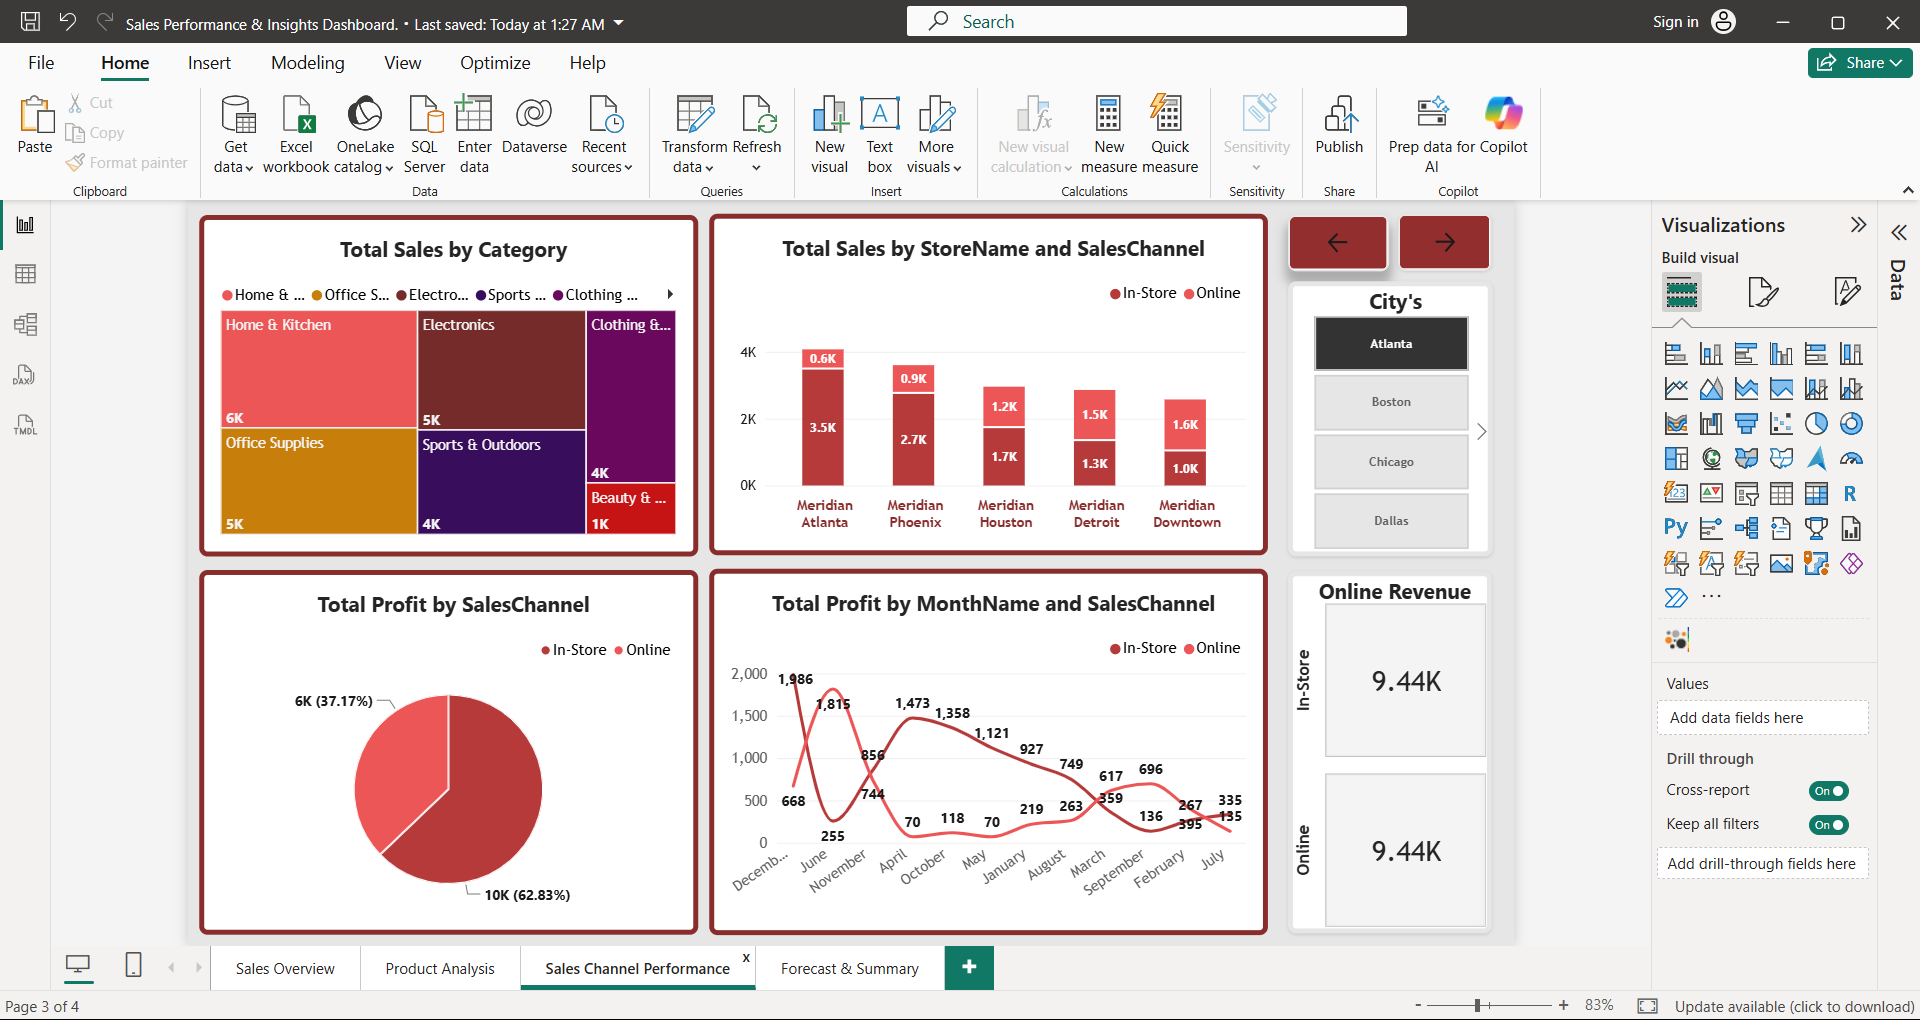

Layout of this report page (visuals, bound fields, positions):
{"tool":"powerbi","page":{"name":"Sales Channel Performance","canvas":[1280,720],"ordinal":1},"visuals":[{"type":"treemap","fields":{"Group":["Products.Category"],"Values":["Sales.Total Sales"]},"box":[10.9,14.5,481.4,329.4],"z":0},{"type":"pieChart","fields":{"Category":["Sales.SalesChannel"],"Y":["Sales.Total Profit"]},"box":[10.9,357.1,481.4,352.3],"z":1000},{"type":"columnChart","fields":{"Category":["Stores.StoreName"],"Series":["Sales.SalesChannel"],"Y":["Sales.Total Sales"]},"box":[503.1,13.3,539.3,329.4],"z":2000},{"type":"lineChart","fields":{"Category":["DateTable.MonthName"],"Series":["Sales.SalesChannel"],"Y":["Sales.Total Profit"]},"box":[503.1,355.9,539.3,353.5],"z":3000},{"type":"cardVisual","title":"Online Revenue","fields":{"Data":["Sales.Total Online Revenue"],"Rows":["Sales.SalesChannel"]},"box":[1061.7,358.3,196.6,349.9],"z":4000},{"type":"actionButton","box":[1061.7,14.5,97.7,54.3],"z":7000},{"type":"actionButton","box":[1167.8,13.3,90.5,55.5],"z":8000},{"type":"slicer","title":"City''s","fields":{"Values":["Customers.City"]},"box":[1061.7,78.4,197.9,265.4],"z":9000}]}

Visuals, with their boxes on the page's 1280x720 design canvas (x1, y1, x2, y2). These are canvas units, not pixel positions in the 1920x1020 screenshot, which may show the page scaled, cropped or inside an application window:
treemap - Products.Category x Sales.Total Sales: crop(11, 14, 492, 344)
pieChart - Sales.SalesChannel x Sales.Total Profit: crop(11, 357, 492, 709)
columnChart - Stores.StoreName x Sales.SalesChannel: crop(503, 13, 1042, 343)
lineChart - DateTable.MonthName x Sales.SalesChannel: crop(503, 356, 1042, 709)
"Online Revenue" cardVisual: crop(1062, 358, 1258, 708)
actionButton: crop(1062, 14, 1159, 69)
actionButton: crop(1168, 13, 1258, 69)
"City''s" slicer: crop(1062, 78, 1260, 344)
